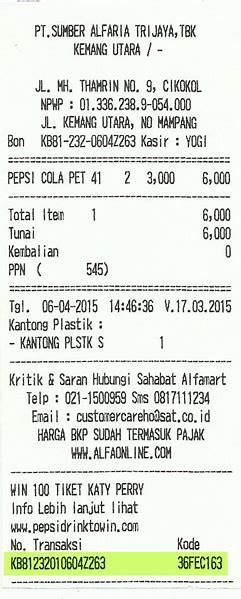total belanja: (1, 196, 236, 226)
